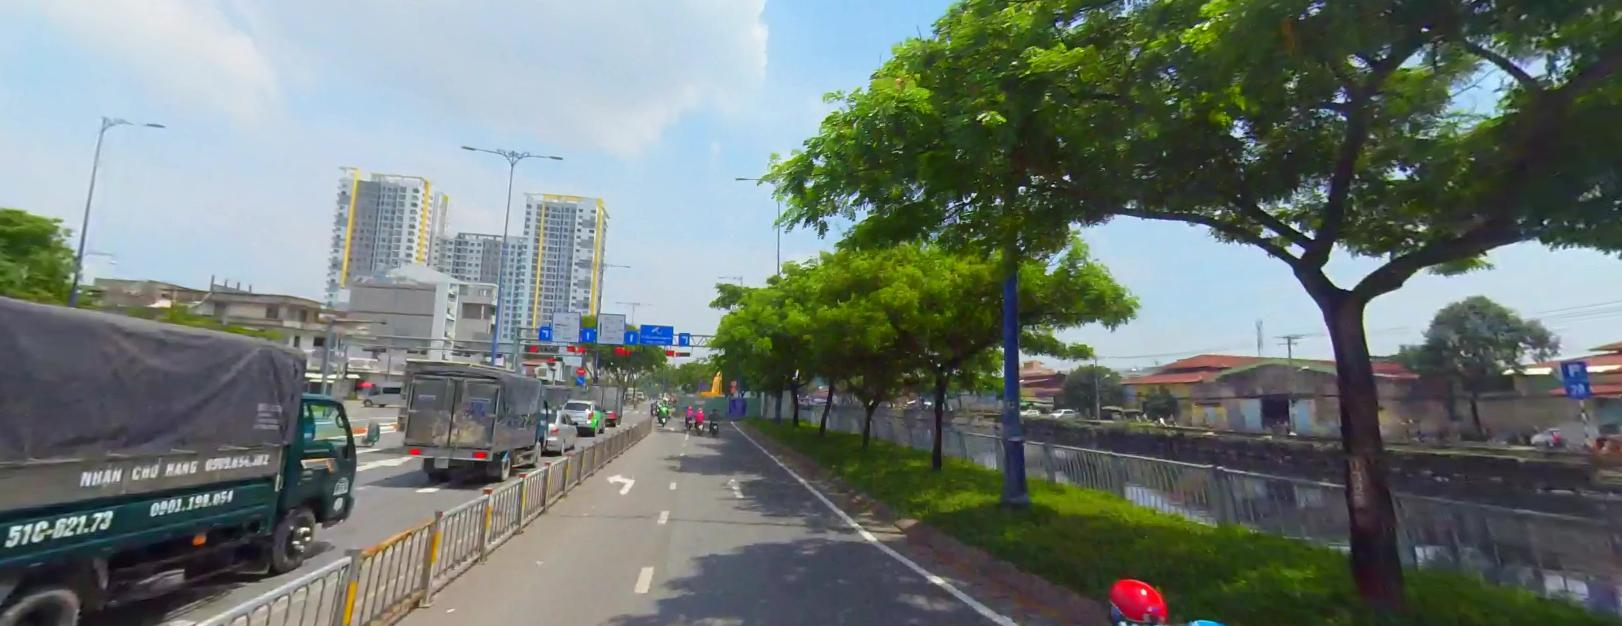Cam nguoc chieu: (576, 365, 584, 372)
Hieu lenh: (575, 375, 584, 383)
